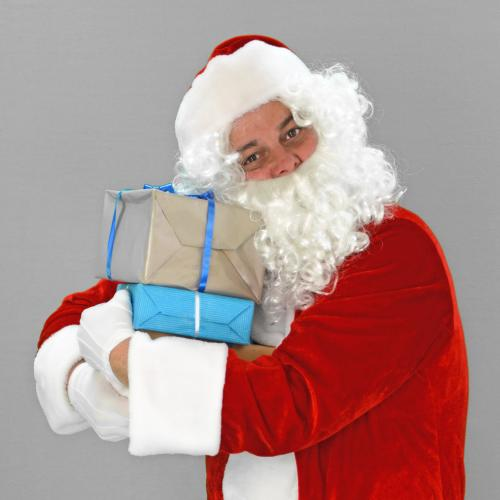Santa: (33, 33, 471, 500)
